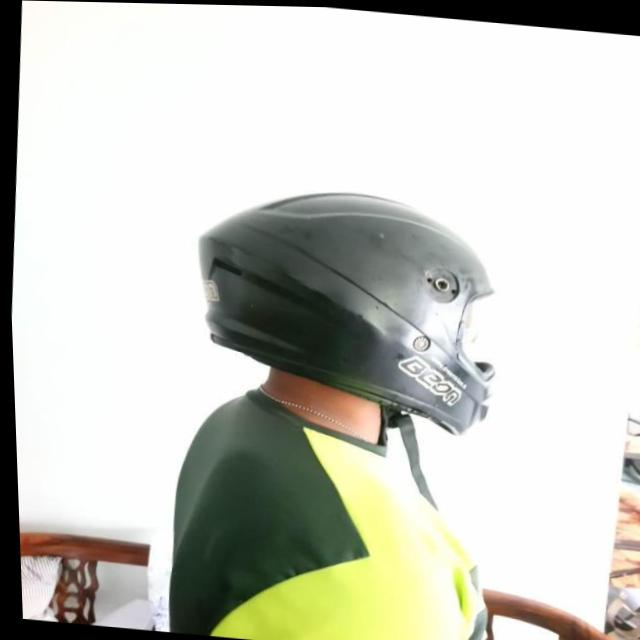helmet: (178, 178, 506, 514)
